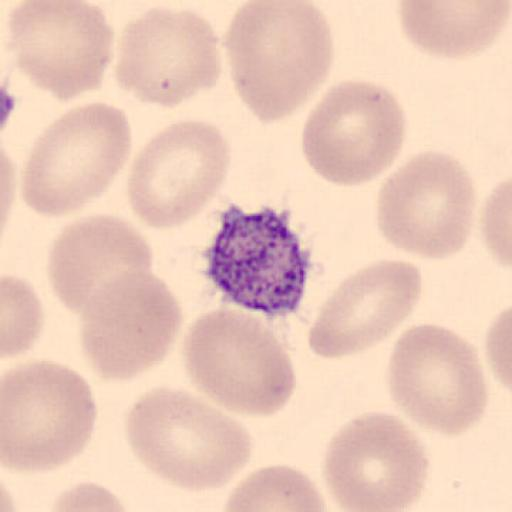Platelet: (200, 200, 318, 320)
RBC: (220, 0, 336, 126), (123, 384, 254, 493), (180, 305, 298, 419), (20, 102, 134, 218), (76, 269, 184, 384), (384, 321, 488, 438), (126, 116, 232, 230), (306, 258, 424, 360), (300, 78, 408, 189), (373, 148, 477, 262), (2, 0, 116, 102), (320, 409, 432, 512), (114, 6, 223, 110), (46, 213, 155, 316), (2, 359, 99, 473), (394, 0, 512, 62), (221, 464, 328, 512), (2, 271, 44, 362), (479, 174, 512, 272), (48, 478, 136, 512), (483, 303, 512, 401), (0, 132, 18, 246), (0, 140, 17, 224)
